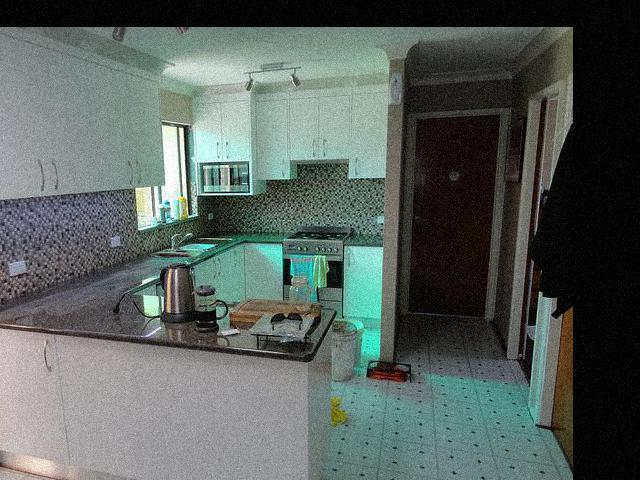Lavaplatos: (159, 232, 218, 260)
